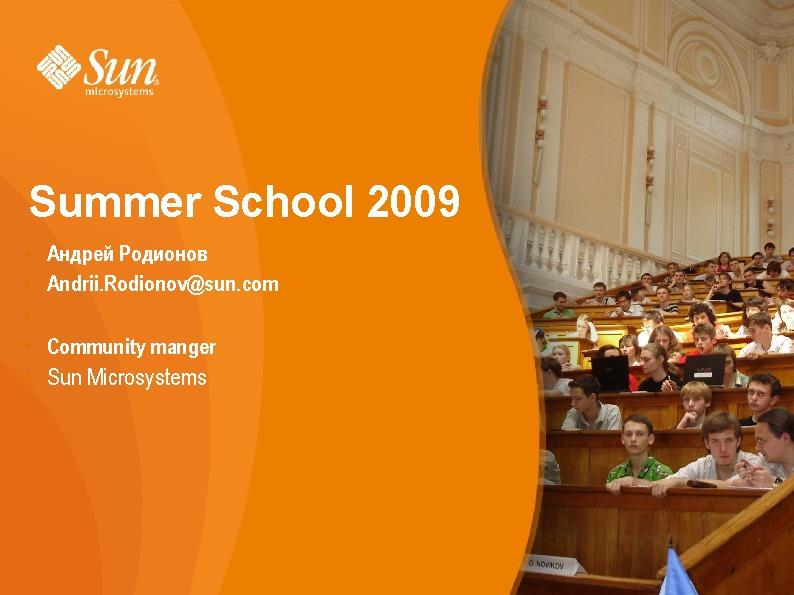subtitle: (36, 239, 398, 432)
title: (25, 165, 468, 234)
